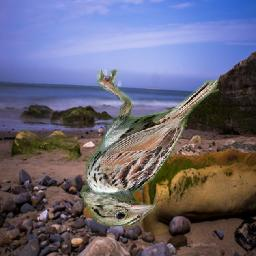Sparrow: (81, 70, 219, 227)
